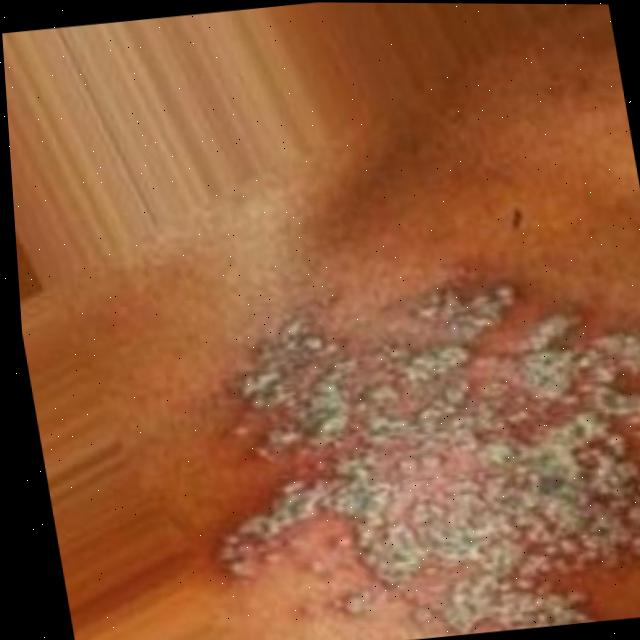Shingles: (170, 261, 640, 640)
